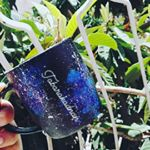cups: (1, 34, 105, 141)
